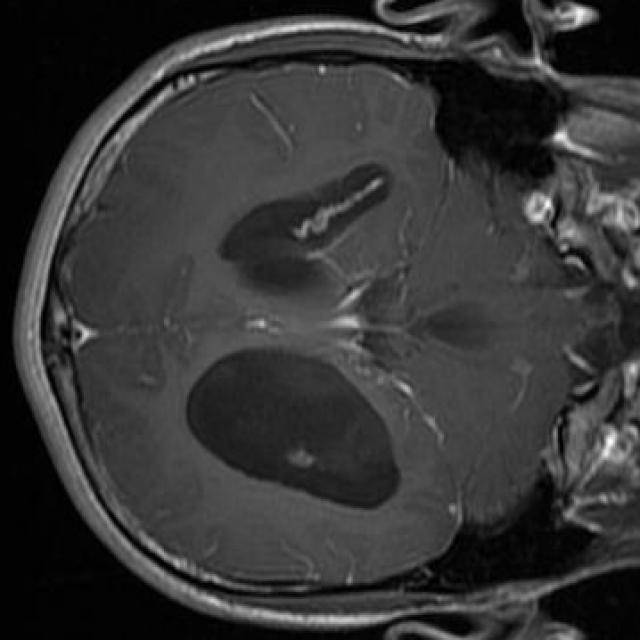glioma: (185, 348, 401, 510)
